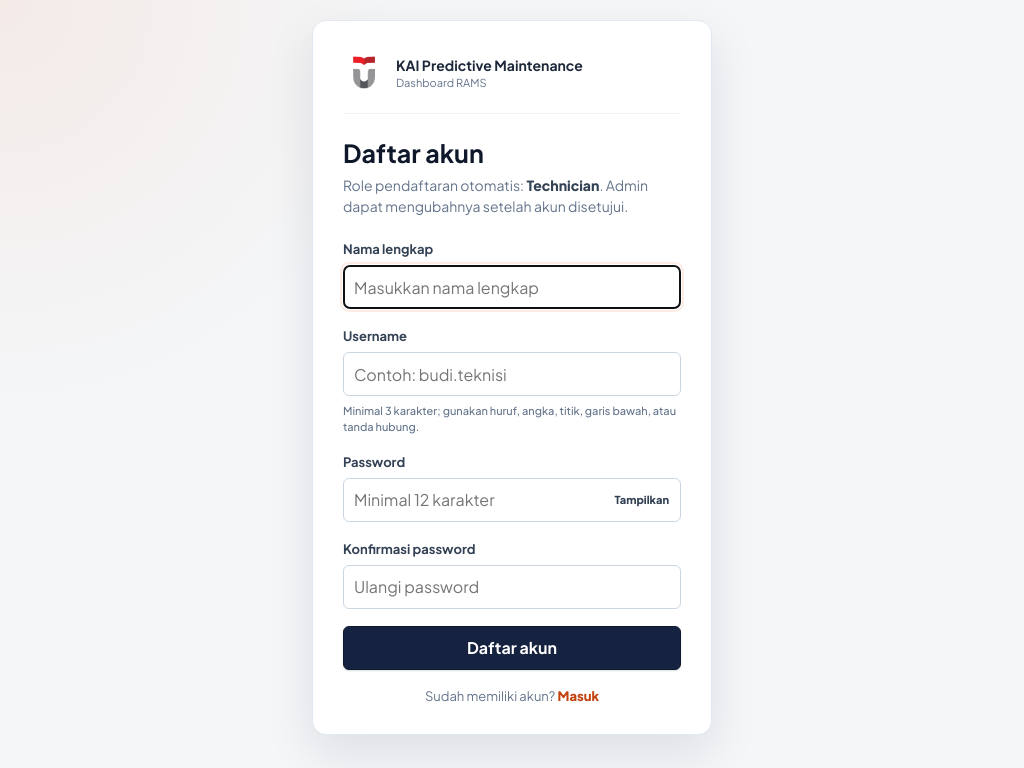
Test: RegisterForm › rejects a mismatched password confirmation
Type "Budi Teknisi" into the field labelled "Nama lengkap" at (512, 287), box x1=343 y1=265 x2=681 y2=309
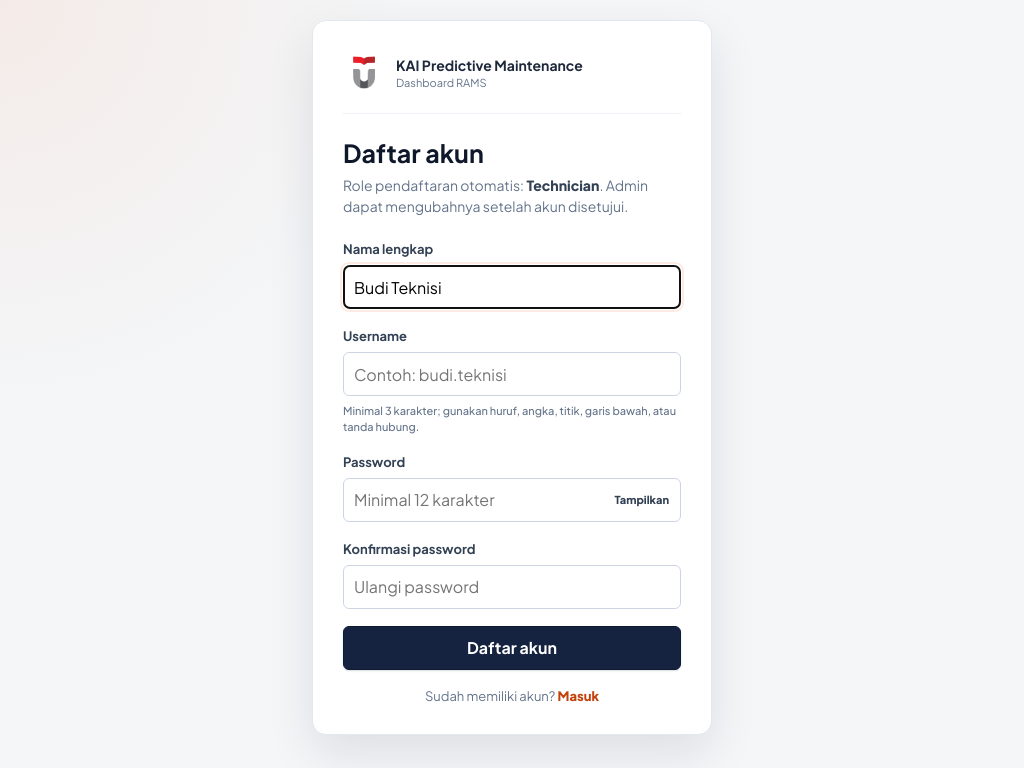
Type "budi.teknisi" into the field labelled "Username" at (512, 374), box x1=343 y1=352 x2=681 y2=396
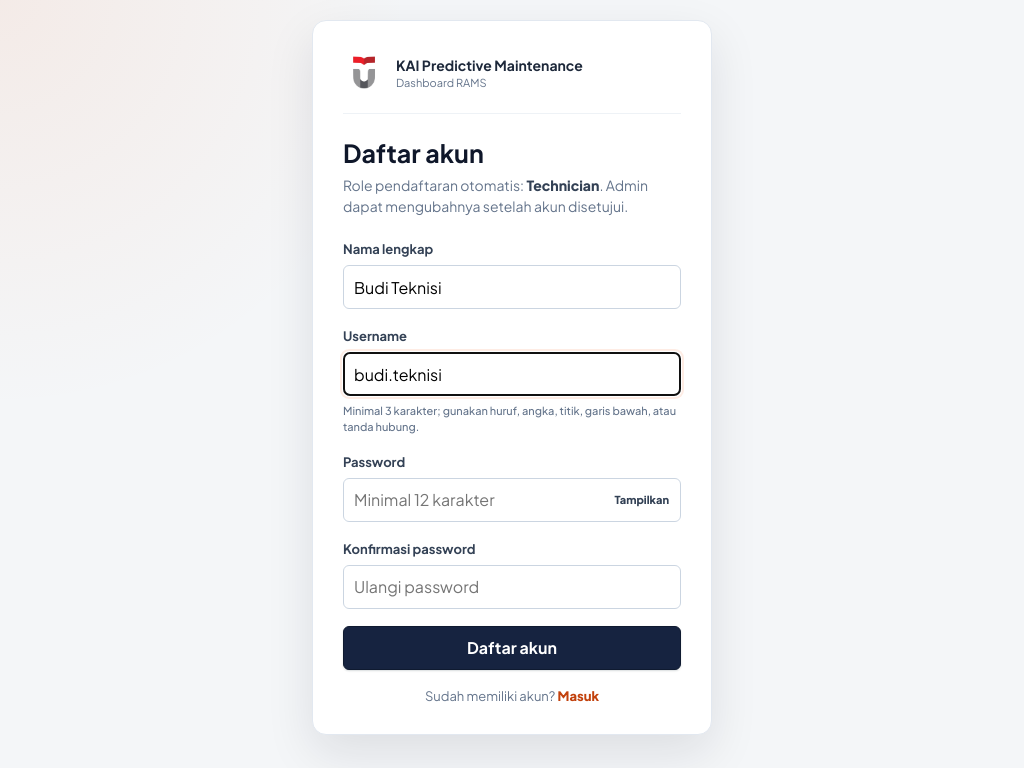
Type "password-kuat-123" into the password field labelled "Password" at (512, 500), box x1=343 y1=478 x2=681 y2=522
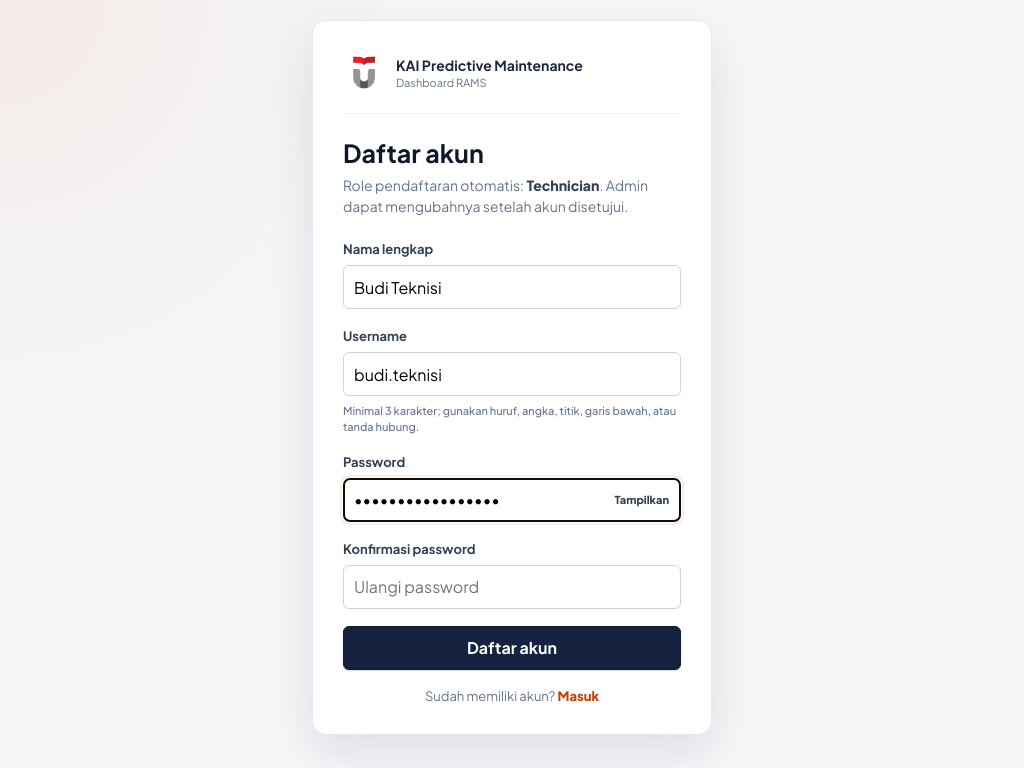
Type "password-kuat-456" into the password field labelled "Konfirmasi password" at (512, 587), box x1=343 y1=565 x2=681 y2=609
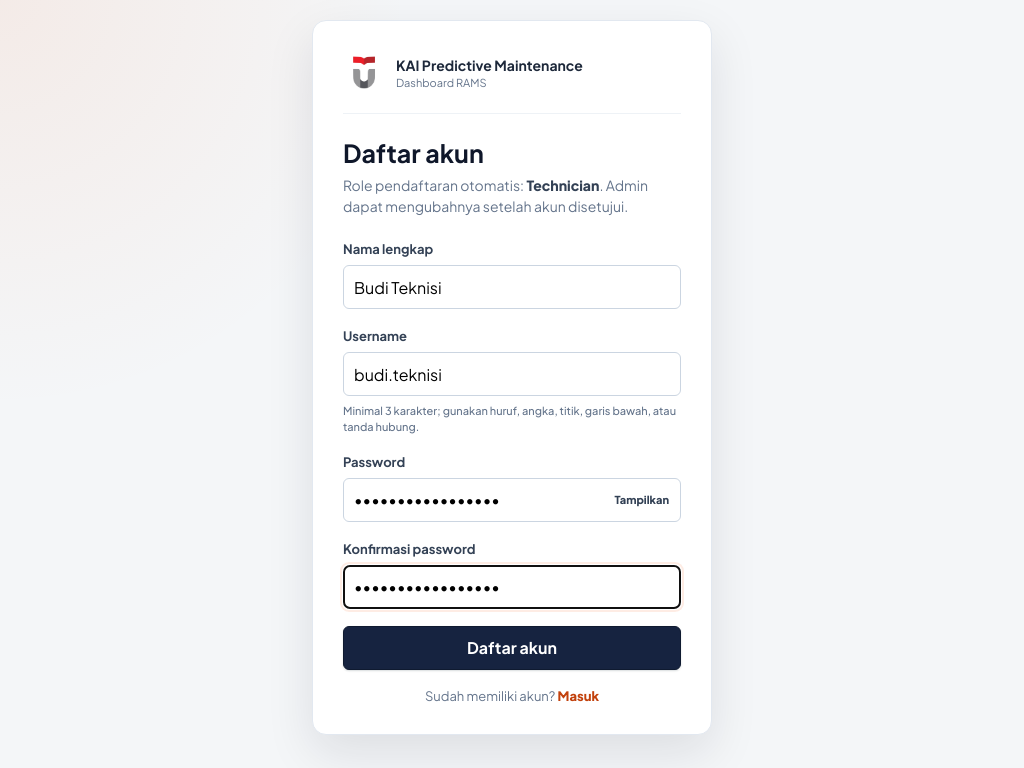
Click the button "Daftar akun" at (512, 648), box x1=343 y1=626 x2=681 y2=670
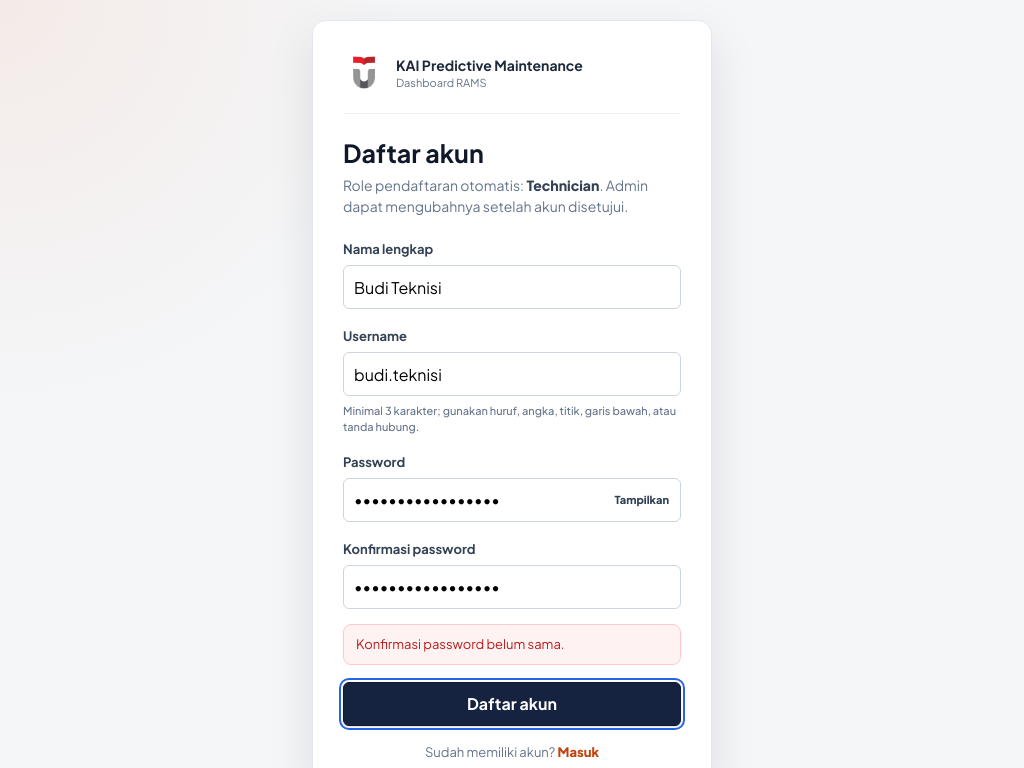
Result: the message shows "Konfirmasi password belum sama" at x1=356 y1=636 x2=565 y2=652
